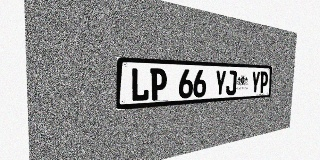6: (178, 69, 193, 99), (193, 69, 207, 98)
J: (226, 70, 237, 95)
L: (130, 68, 150, 102)
P: (150, 68, 167, 101), (259, 71, 268, 93)
Y: (214, 70, 226, 96), (251, 71, 260, 94)
